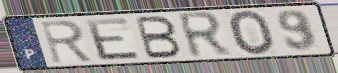9: (276, 9, 319, 53)
B: (134, 15, 185, 60)
E: (83, 16, 144, 62)
O: (226, 9, 278, 57)
R: (174, 10, 234, 61), (37, 19, 95, 65)
